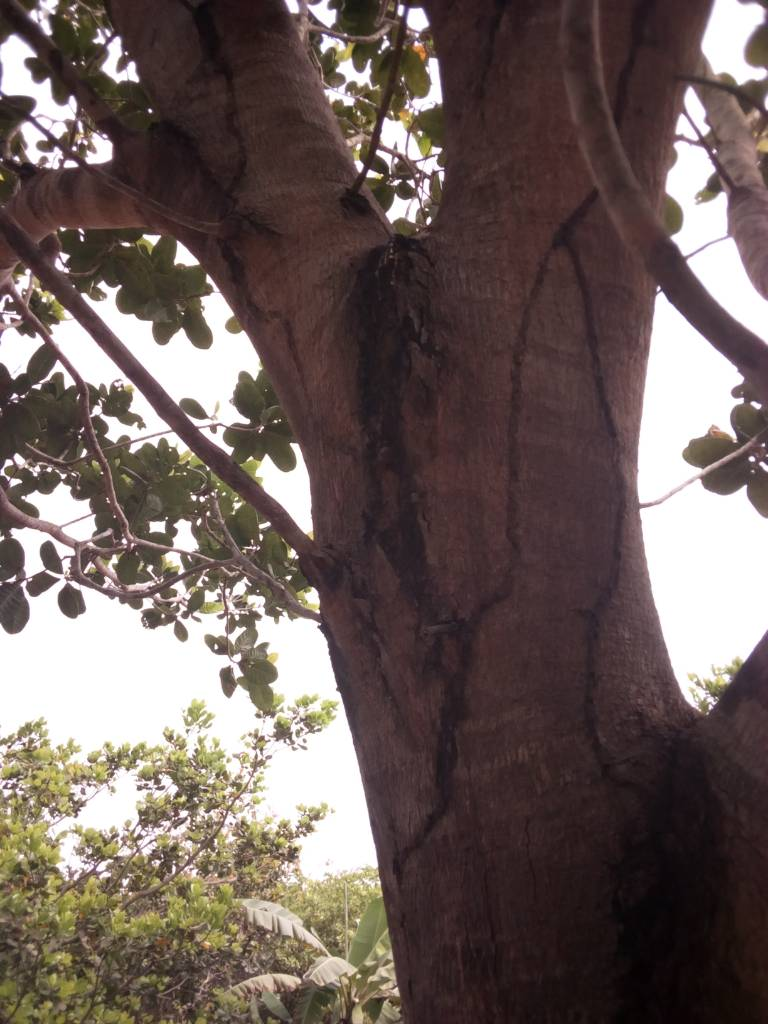Termites: (393, 558, 513, 880)
